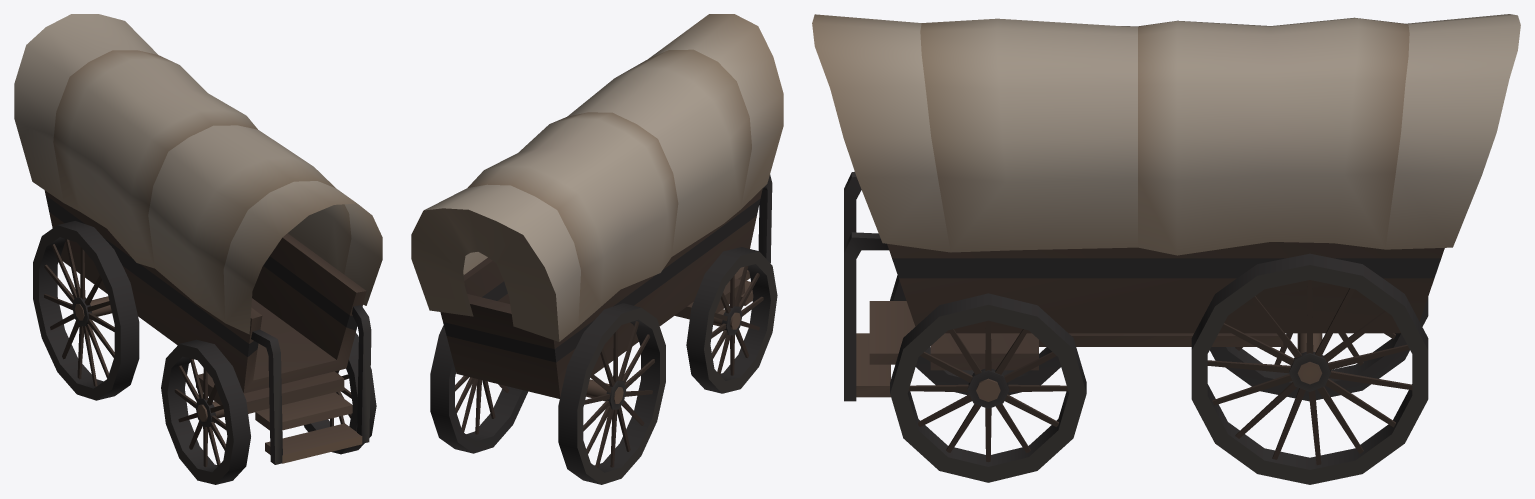
The model's file is vehicles-work-vehicles-covered-wagon_v1.fbx.
The picture shows the model from 3 angles, left to right: view 1: azimuth 30°, elevation 25°; view 2: azimuth 150°, elevation 25°; view 3: azimuth 270°, elevation 25°; orthographic projection. The views are drawn at different scales.
Parts seen in each view (by area): view 1: Covered Wagon; view 2: Covered Wagon; view 3: Covered Wagon.
Boxes of the visible parts, <box> form: Covered Wagon: <box>14,14,382,484</box>; Covered Wagon: <box>411,14,783,484</box>; Covered Wagon: <box>812,14,1520,484</box>.
Bounding box in the file's own units: 1.6 × 3.22 × 5.
